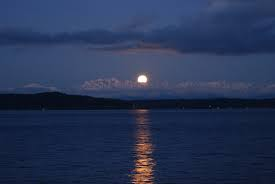moon: (134, 72, 150, 88)
